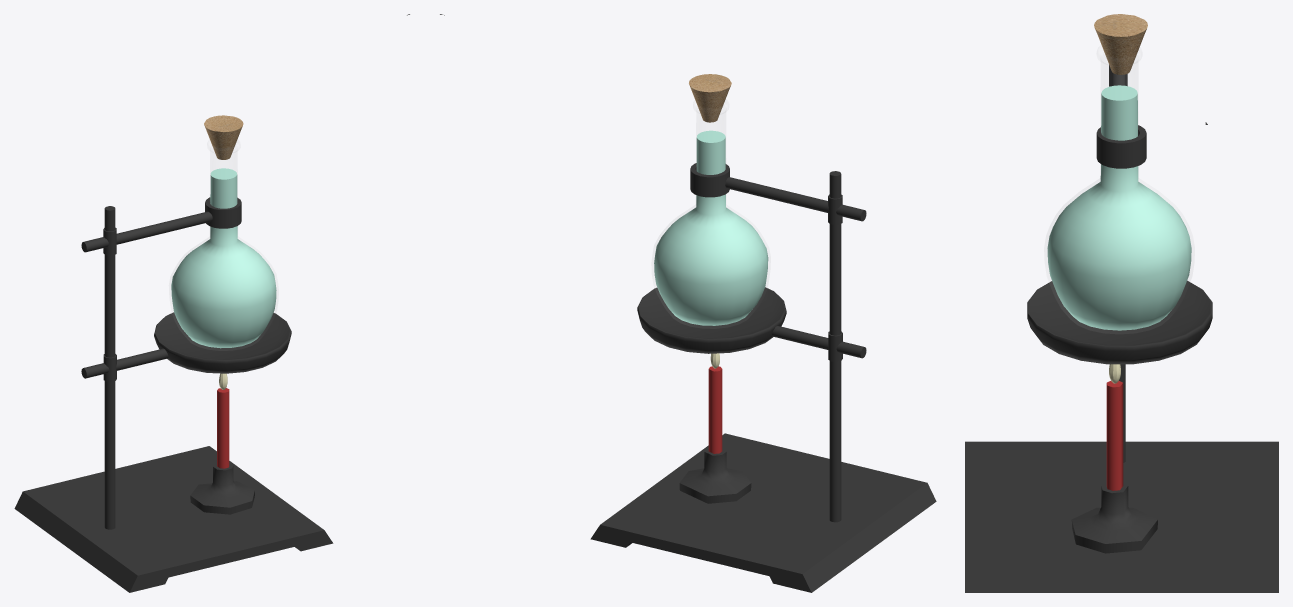
Rendered from uploads_files_3454599_Chemistry.fbx.
3 views of the same model, side by side, from view 1: azimuth 30°, elevation 25°; view 2: azimuth 150°, elevation 25°; view 3: azimuth 270°, elevation 25° (orthographic). The views are drawn at different scales.
Parts seen in each view (by area): view 1: Chemistry:ChemistryS_1, Chemistry:ChemistryS_15, Chemistry:ChemistryS_8, Chemistry:ChemistryS_2; view 2: Chemistry:ChemistryS_1, Chemistry:ChemistryS_15, Chemistry:ChemistryS_8, Chemistry:ChemistryS_2; view 3: Chemistry:ChemistryS_1, Chemistry:ChemistryS_15, Chemistry:ChemistryS_8, Chemistry:ChemistryS_2.
Boxes of the visible parts, x1,y1,x2,y2 form: Chemistry:ChemistryS_1: [14, 197, 333, 592]; Chemistry:ChemistryS_15: [171, 168, 276, 348]; Chemistry:ChemistryS_8: [204, 115, 243, 159]; Chemistry:ChemistryS_2: [217, 373, 229, 468]; Chemistry:ChemistryS_1: [590, 163, 936, 592]; Chemistry:ChemistryS_15: [654, 130, 768, 325]; Chemistry:ChemistryS_8: [689, 74, 731, 122]; Chemistry:ChemistryS_2: [708, 353, 722, 453]; Chemistry:ChemistryS_1: [965, 65, 1278, 592]; Chemistry:ChemistryS_15: [1047, 85, 1191, 330]; Chemistry:ChemistryS_8: [1094, 14, 1147, 74]; Chemistry:ChemistryS_2: [1106, 364, 1123, 490].
Size of the model in its own units: 5.68 by 6.23 by 3.07.
7 materials, 1 textured.
